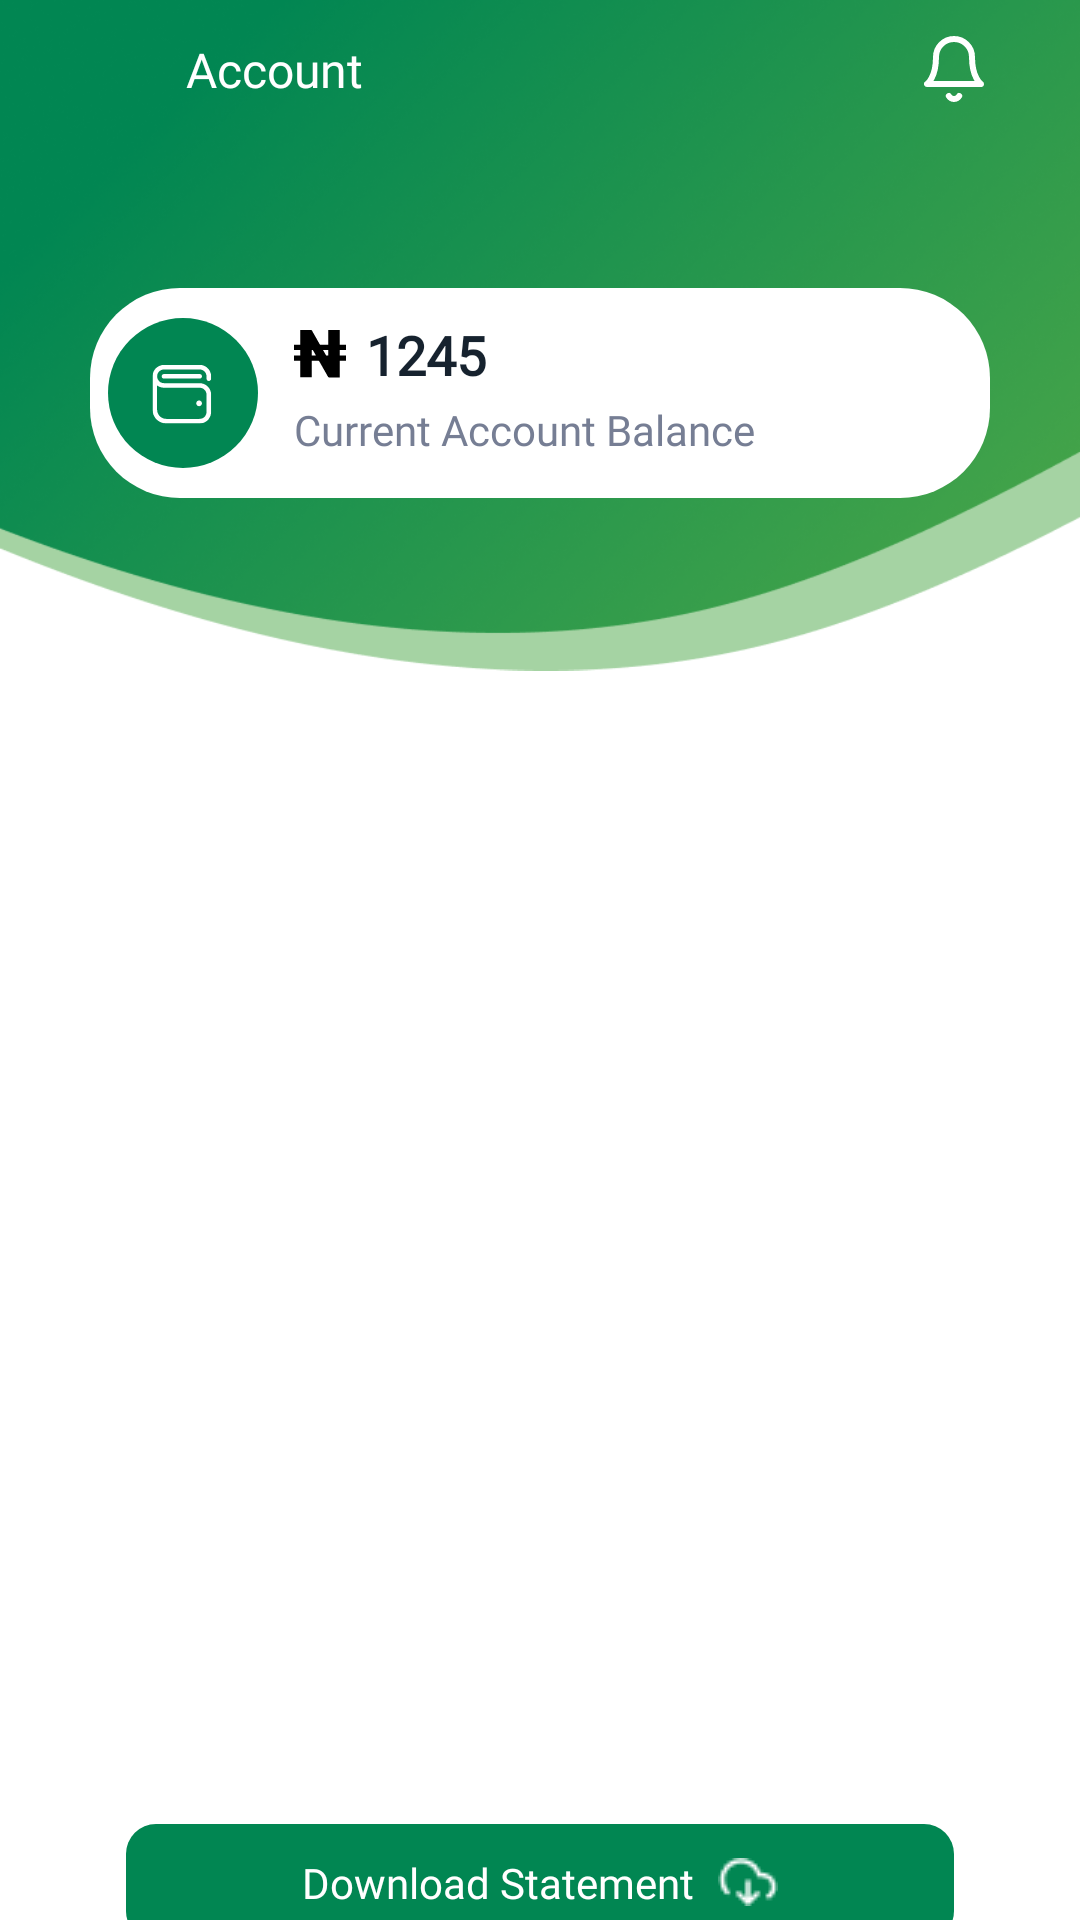

Named icons in this screenshot (1080×1920) and their bounding boxes, (x1, y1, x2, y2):
bell: (924, 36, 984, 102)
wallet circle: (108, 318, 258, 468)
